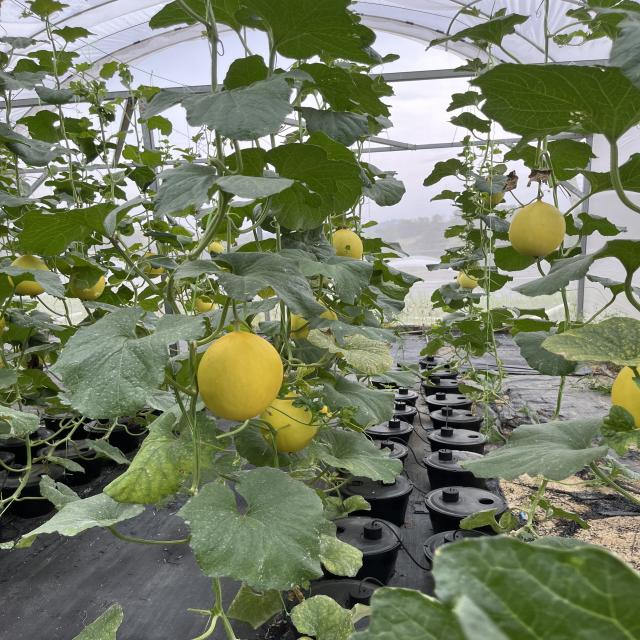alternaria leaf blight: (104, 412, 224, 503), (539, 315, 640, 367), (308, 327, 392, 373), (290, 594, 354, 640)
downy mildew: (179, 255, 314, 308)
healthy: (484, 56, 640, 141), (270, 134, 386, 225), (237, 0, 381, 71), (193, 68, 320, 142), (150, 159, 293, 222), (21, 197, 114, 254)
powdery mildew: (58, 306, 206, 423), (188, 466, 321, 590)
